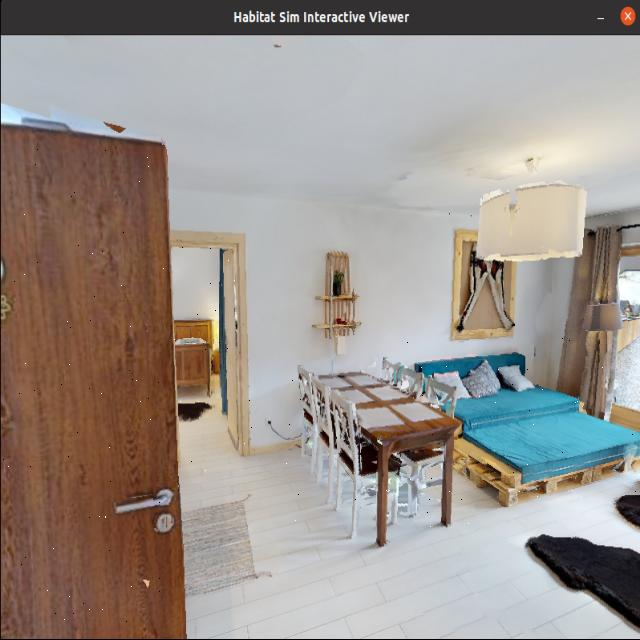chair: (316, 377, 419, 547)
door: (0, 147, 193, 640)
door-frame: (167, 236, 256, 479)
sofa: (405, 336, 640, 502)
table: (282, 348, 490, 550)
